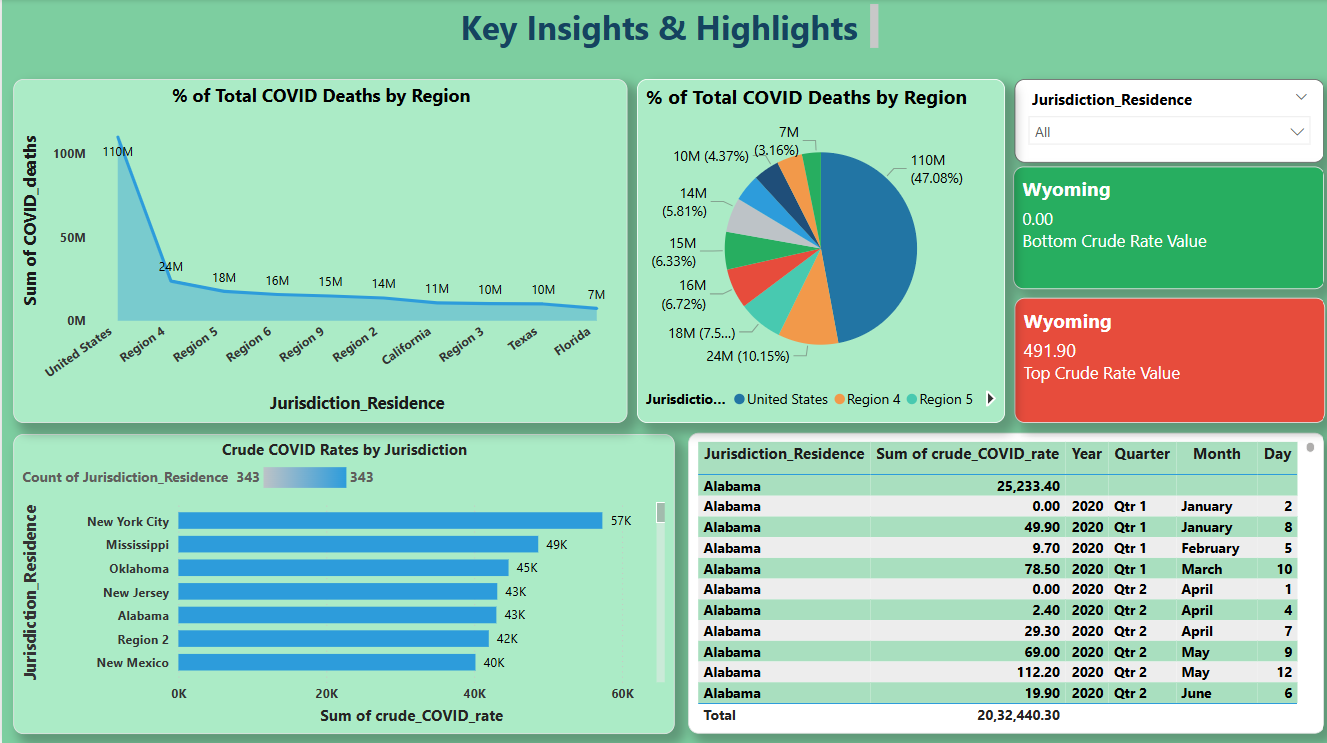

The dashboard page shown, as its layout file describes it:
{"tool":"powerbi","page":{"name":"3. Key Insights","canvas":[1280,720],"ordinal":2},"visuals":[{"type":"textbox","box":[425.9,0,424.7,60.3],"z":0},{"type":"clusteredBarChart","title":"Crude COVID Rates by Jurisdiction","fields":{"Category":["DA_Data.Jurisdiction_Residence"],"Y":["Sum(DA_Data.crude_COVID_rate)"]},"box":[11,419.9,638.1,289.5],"z":1000},{"type":"areaChart","title":"% of Total COVID Deaths by Region","fields":{"Category":["DA_Data.Jurisdiction_Residence"],"Y":["Sum(DA_Data.COVID_deaths)"]},"box":[11,76.8,592.8,332.1],"z":2000},{"type":"slicer","fields":{"Values":["DA_Data.Jurisdiction_Residence"]},"box":[977,76.8,299.1,81],"z":3000},{"type":"tableEx","fields":{"Values":["DA_Data.Jurisdiction_Residence","Sum(DA_Data.crude_COVID_rate)","DA_Data.data_period_end.Variation.Date Hierarchy.Year","DA_Data.data_period_end.Variation.Date Hierarchy.Quarter","DA_Data.data_period_end.Variation.Date Hierarchy.Month","DA_Data.data_period_end.Variation.Date Hierarchy.Day"]},"box":[662.3,418.6,614.1,290.8],"z":4000},{"type":"multiRowCard","fields":{"Values":["DA_Data.Bottom Crude Rate Value","DA_Data.Bottom Crude Region"]},"box":[975.6,161.9,300.5,118],"z":5000},{"type":"multiRowCard","fields":{"Values":["DA_Data.Top Crude Rate Value","DA_Data.Top Crude Region"]},"box":[977,288.2,300.5,120.8],"z":6000},{"type":"pieChart","title":"% of Total COVID Deaths by Region","fields":{"Category":["DA_Data.Jurisdiction_Residence"],"Y":["Sum(DA_Data.COVID_deaths)"]},"box":[613.4,76.8,355.4,332.1],"z":7000}]}

Visuals, with their boxes in screenshot pixels (x1, y1, x2, y2), scaled from the page's 1280x720 canvas onto the 1327x743 screenshot:
textbox: 442, 0, 882, 62
"Crude COVID Rates by Jurisdiction" clusteredBarChart: 11, 433, 673, 732
"% of Total COVID Deaths by Region" areaChart: 11, 79, 626, 422
slicer - DA_Data.Jurisdiction_Residence: 1013, 79, 1323, 163
tableEx - DA_Data.Jurisdiction_Residence x Sum(DA_Data.crude_COVID_rate): 687, 432, 1323, 732
multiRowCard - DA_Data.Bottom Crude Rate Value x DA_Data.Bottom Crude Region: 1011, 167, 1323, 289
multiRowCard - DA_Data.Top Crude Rate Value x DA_Data.Top Crude Region: 1013, 297, 1324, 422
"% of Total COVID Deaths by Region" pieChart: 636, 79, 1004, 422
